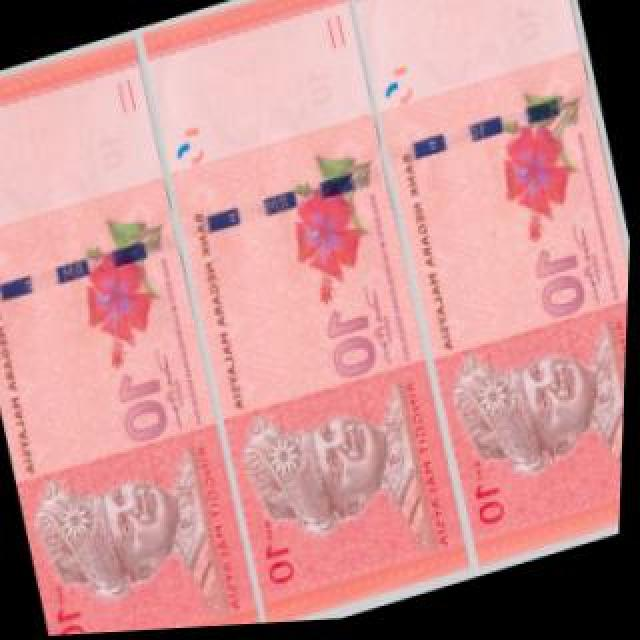10 Ringgit: (128, 0, 496, 633), (324, 0, 640, 586), (0, 34, 274, 640)
